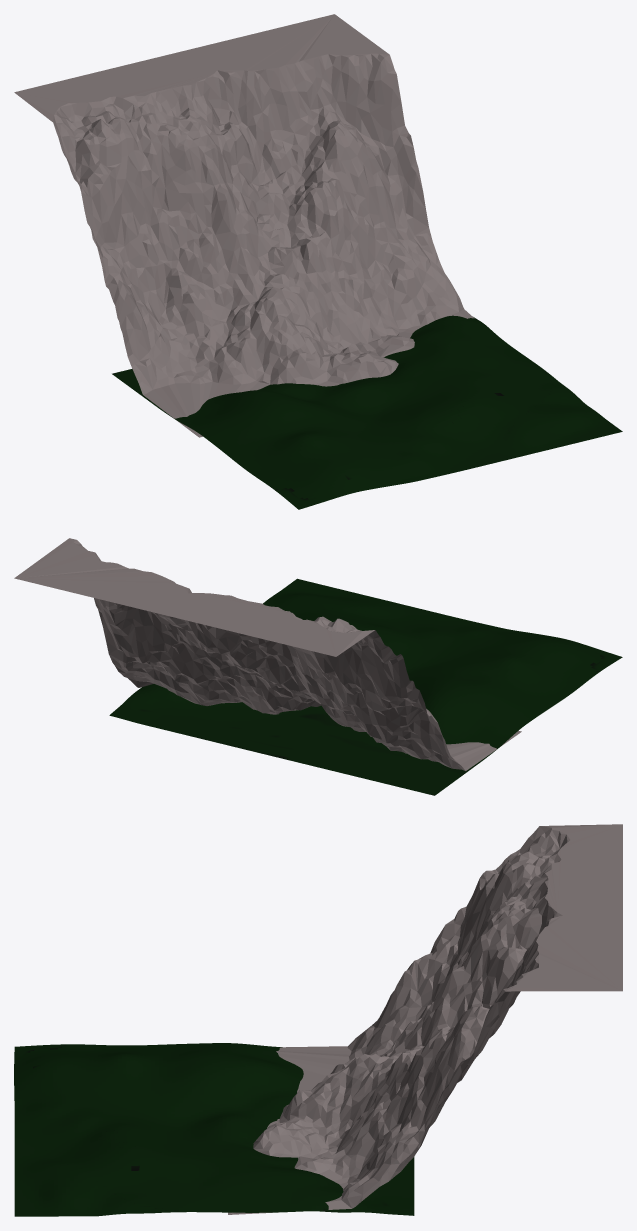
File: world_landscape.glb
The picture shows the model from 3 angles, top to bottom: view 1: azimuth 30°, elevation 25°; view 2: azimuth 150°, elevation 25°; view 3: azimuth 270°, elevation 25°; orthographic projection. The views are drawn at different scales.
Parts seen in each view (by area): view 1: Landscape.001, Grid; view 2: Landscape.001, Grid; view 3: Landscape.001, Grid.
Boxes of the visible parts, box(x1,y1,x2,y2) form: Landscape.001: box(14, 14, 474, 437); Grid: box(112, 315, 622, 509); Landscape.001: box(14, 538, 521, 770); Grid: box(109, 578, 622, 795); Landscape.001: box(228, 824, 622, 1214); Grid: box(14, 1043, 414, 1216).
Bounding box in the file's own units: 50.17 × 30.92 × 76.23.
3 materials, 1 textured.
